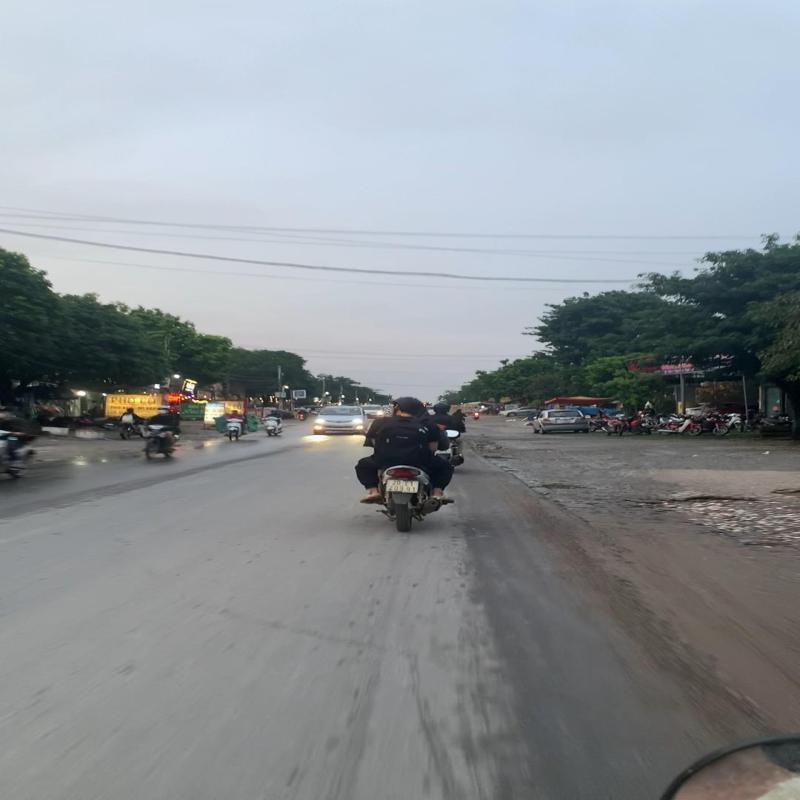helmet: (388, 395, 426, 418)
licenseplate: (383, 480, 420, 494)
motorcyclist: (354, 396, 462, 534)
